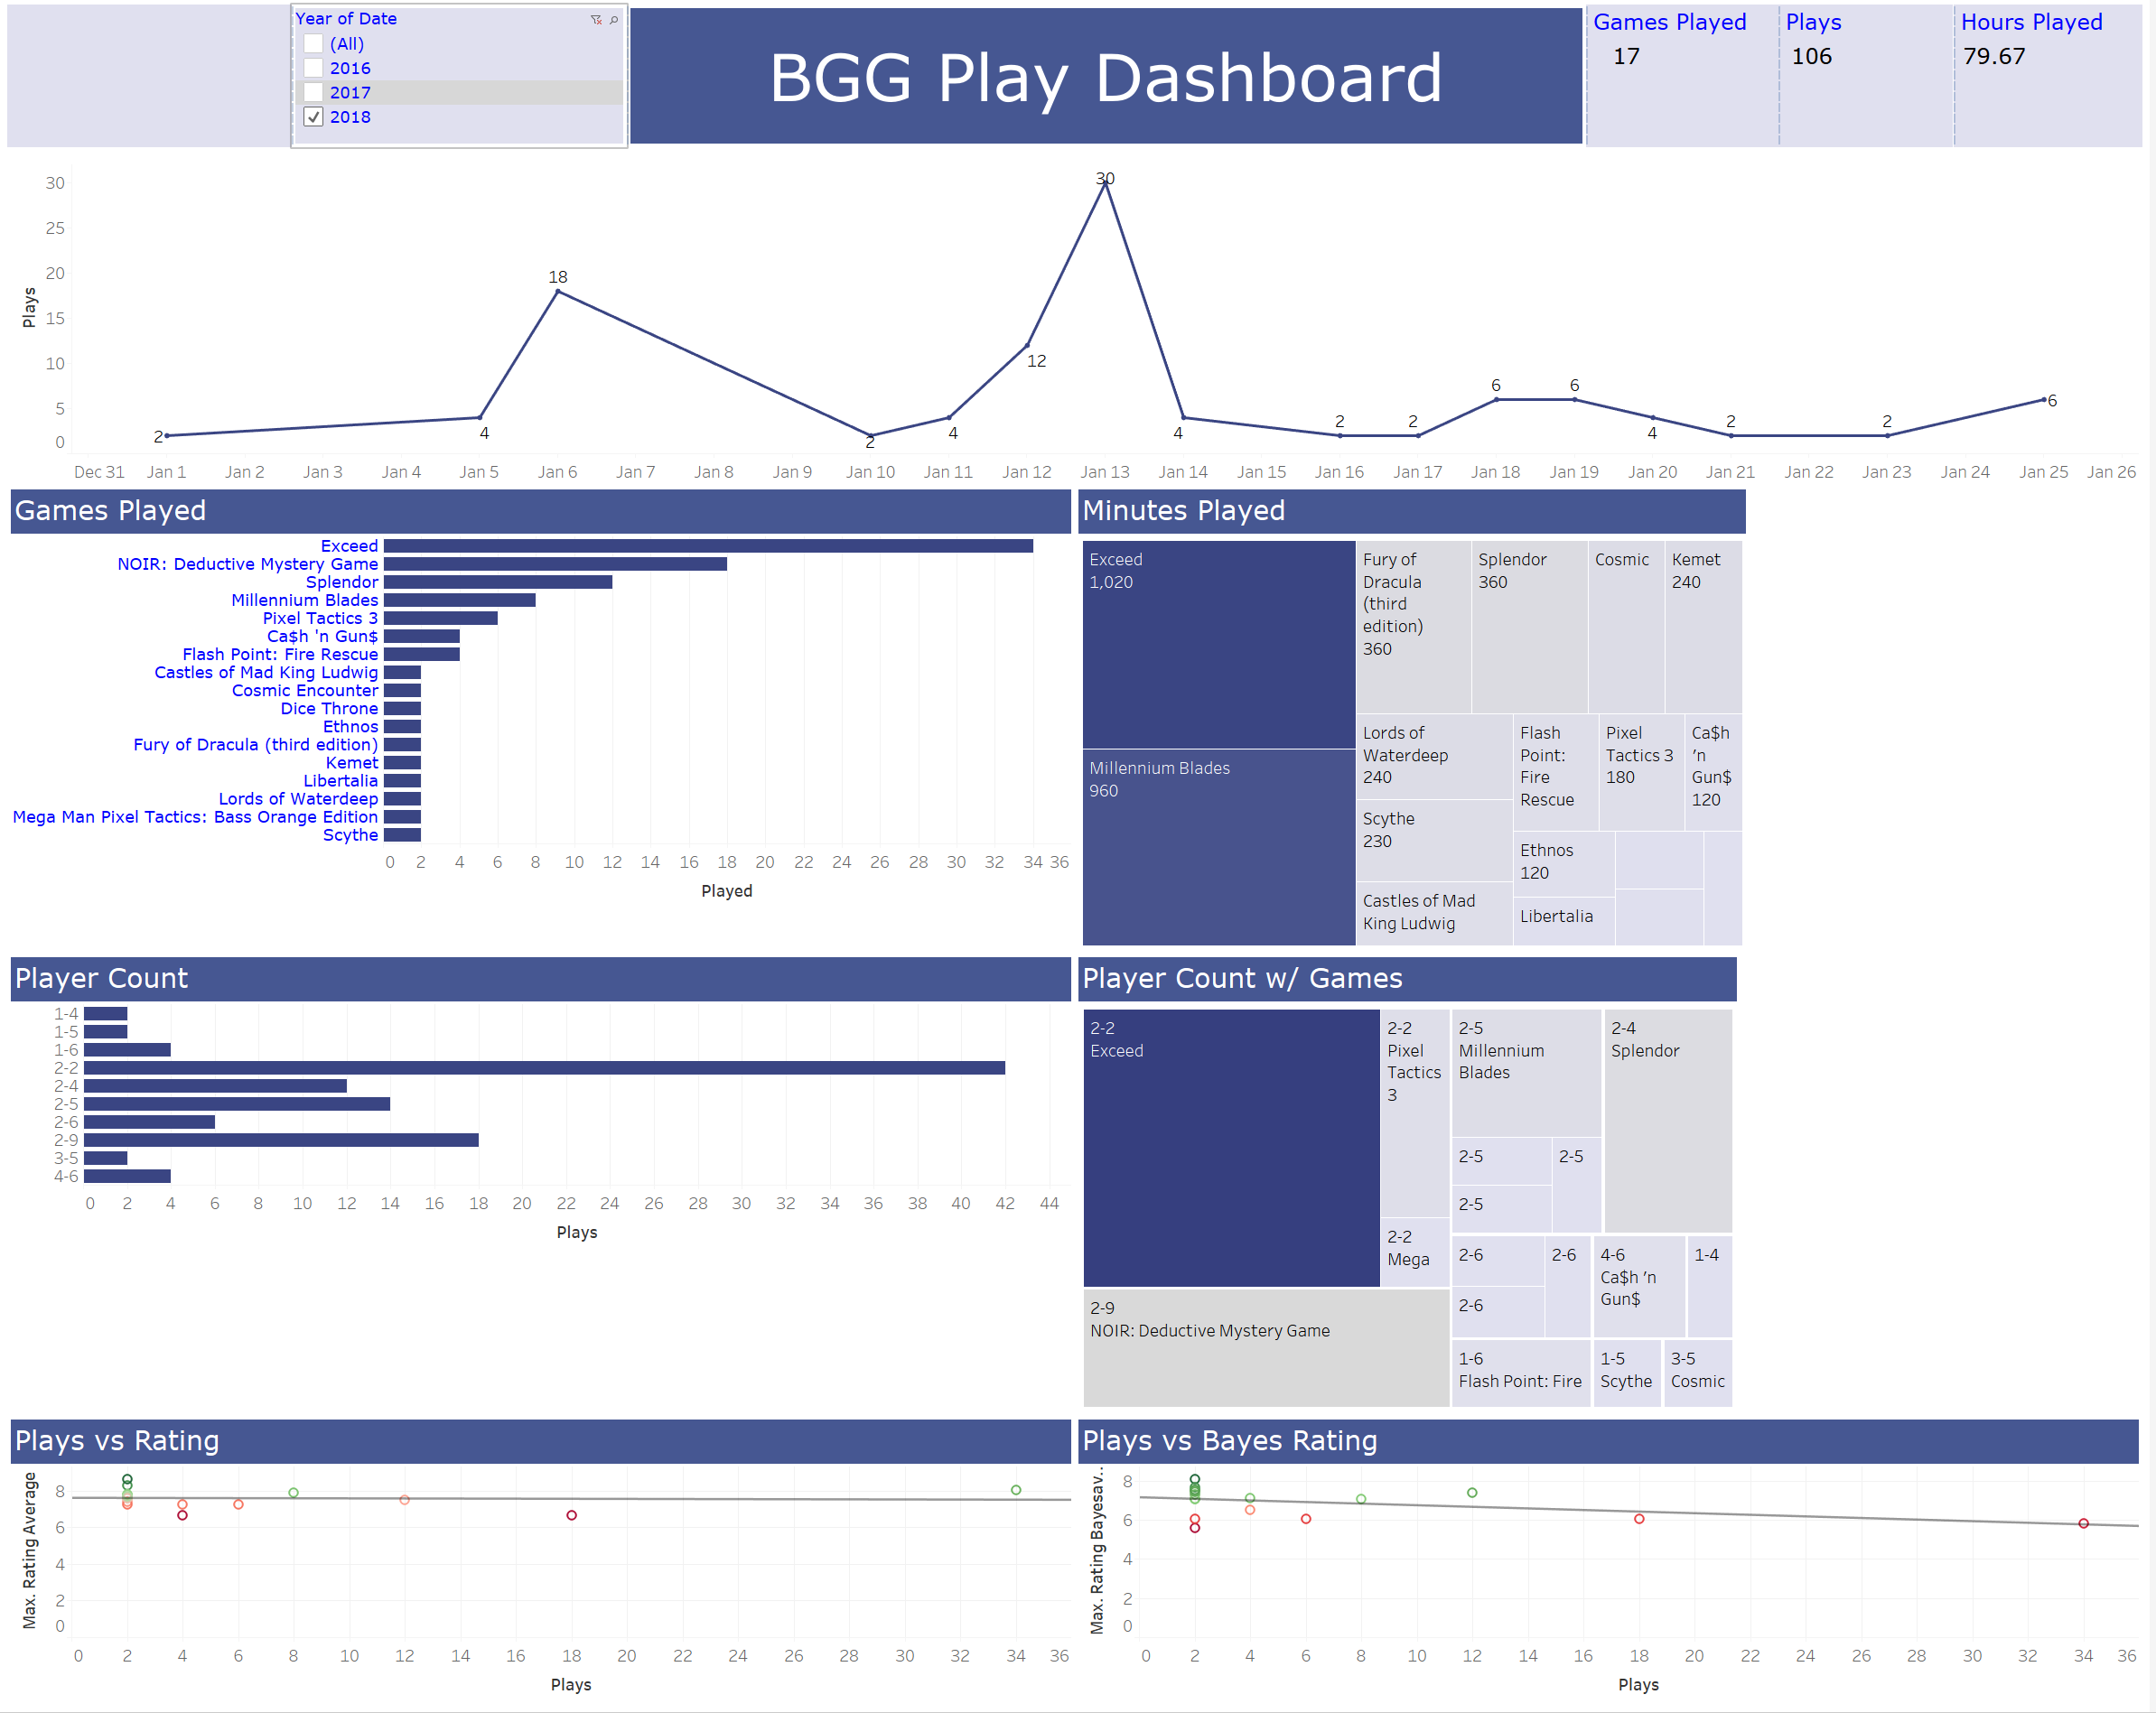

The page's visual inventory and layout, read from the dashboard file:
{"tool":"tableau","page":{"name":"Dashboard 1","canvas":[1000,1000],"units":"permille","ordinal":0},"visuals":[{"type":"filter","title":"Plyas_ovr_Time","param":"[federated.0m94yjq00go84x103t69u13urjxg].[yr:date:ok]","box":[135.7,4.2,155.9,83.2]},{"type":"text","box":[291.6,4.2,446.2,83.2]},{"type":"text","box":[737.8,4.2,89.6,20]},{"type":"text","box":[827.5,4.2,81.2,20]},{"type":"text","box":[908.7,4.2,88,20]},{"type":"worksheet","title":"Total Games Played","mark":"Automatic","box":[737.8,24.2,89.6,20]},{"type":"worksheet","title":"Total Plays","mark":"Automatic","box":[827.5,24.2,81.2,20]},{"type":"worksheet","title":"Total Hours Played","mark":"Automatic","box":[908.7,24.2,88,20]},{"type":"worksheet","title":"Plyas_ovr_Time","mark":"Automatic","rows":["quantity"],"cols":["date"],"box":[3.4,87.4,993.3,197.5]},{"type":"worksheet","title":"Games_played","mark":"Automatic","rows":["game"],"cols":["quantity"],"box":[3.4,284.9,496.6,272.8]},{"type":"worksheet","title":"Play_time","mark":"Automatic","box":[500,284.9,496.6,272.8]},{"type":"worksheet","title":"Player Count","mark":"Automatic","rows":["Calculation_357191784549904387"],"cols":["quantity"],"box":[3.4,557.7,496.7,269.6]},{"type":"worksheet","title":"Player Count w/ Games","mark":"Automatic","box":[500,557.7,496.6,269.6]},{"type":"worksheet","title":"Plays vs Rating","mark":"Automatic","rows":["rating_average"],"cols":["quantity"],"box":[3.4,827.3,496.7,168.5]},{"type":"worksheet","title":"Plays vs Bayes Rating","mark":"Automatic","rows":["rating_bayesaverage"],"cols":["quantity"],"box":[500,827.3,496.6,168.5]}]}

Visuals, with their boxes on the dashboard's canvas, which has no fixed pixel size, in thousandths of its width and height (x1, y1, x2, y2). These are canvas units, not pixel positions in the 2156x1713 screenshot, which may show the page scaled, cropped or inside an application window:
"Plyas_ovr_Time" filter: left=136, top=4, right=292, bottom=87
text: left=292, top=4, right=738, bottom=87
text: left=738, top=4, right=827, bottom=24
text: left=828, top=4, right=909, bottom=24
text: left=909, top=4, right=997, bottom=24
"Total Games Played" worksheet: left=738, top=24, right=827, bottom=44
"Total Plays" worksheet: left=828, top=24, right=909, bottom=44
"Total Hours Played" worksheet: left=909, top=24, right=997, bottom=44
"Plyas_ovr_Time" worksheet: left=3, top=87, right=997, bottom=285
"Games_played" worksheet: left=3, top=285, right=500, bottom=558
"Play_time" worksheet: left=500, top=285, right=997, bottom=558
"Player Count" worksheet: left=3, top=558, right=500, bottom=827
"Player Count w/ Games" worksheet: left=500, top=558, right=997, bottom=827
"Plays vs Rating" worksheet: left=3, top=827, right=500, bottom=996
"Plays vs Bayes Rating" worksheet: left=500, top=827, right=997, bottom=996
